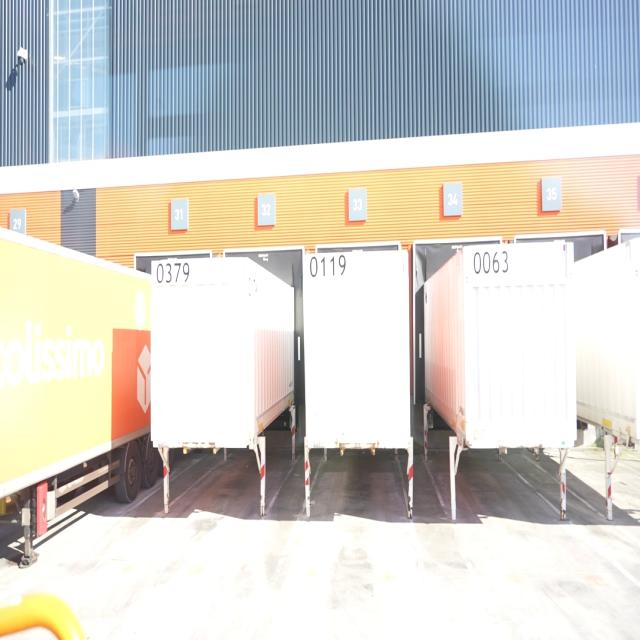Code: (153, 259, 193, 290), (470, 247, 510, 277), (309, 253, 347, 282)
